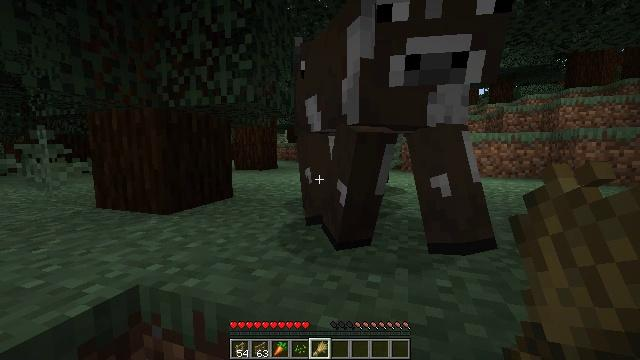cow: (293, 3, 497, 260)
